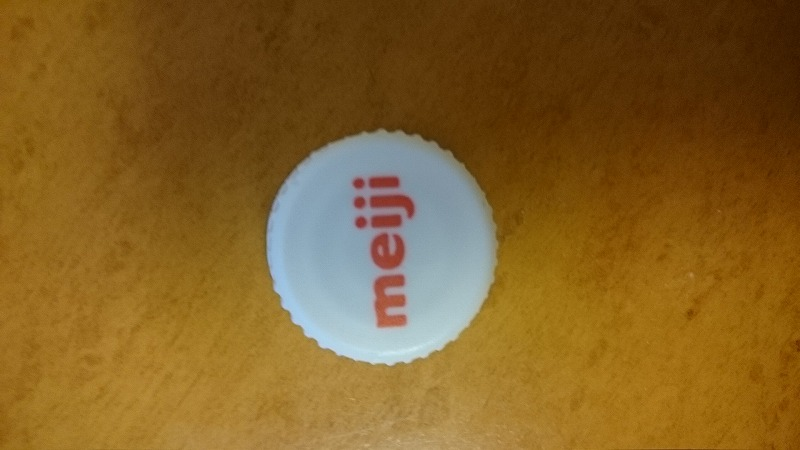B: (258, 121, 507, 369)
